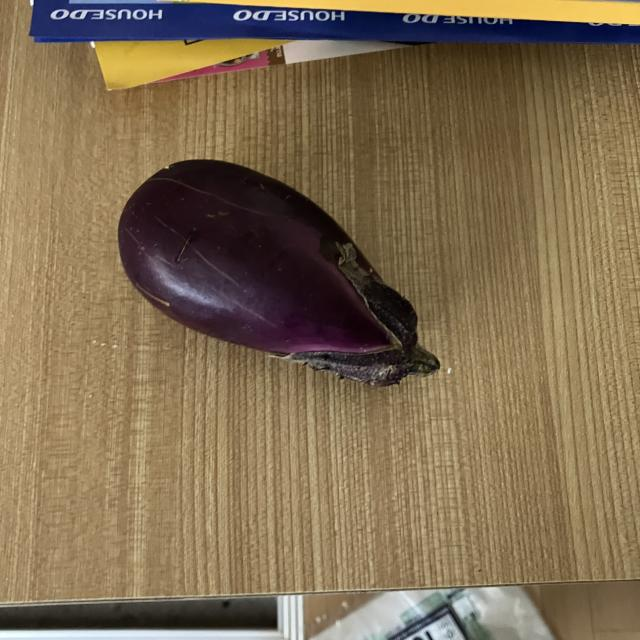eggplant: (116, 156, 443, 392)
